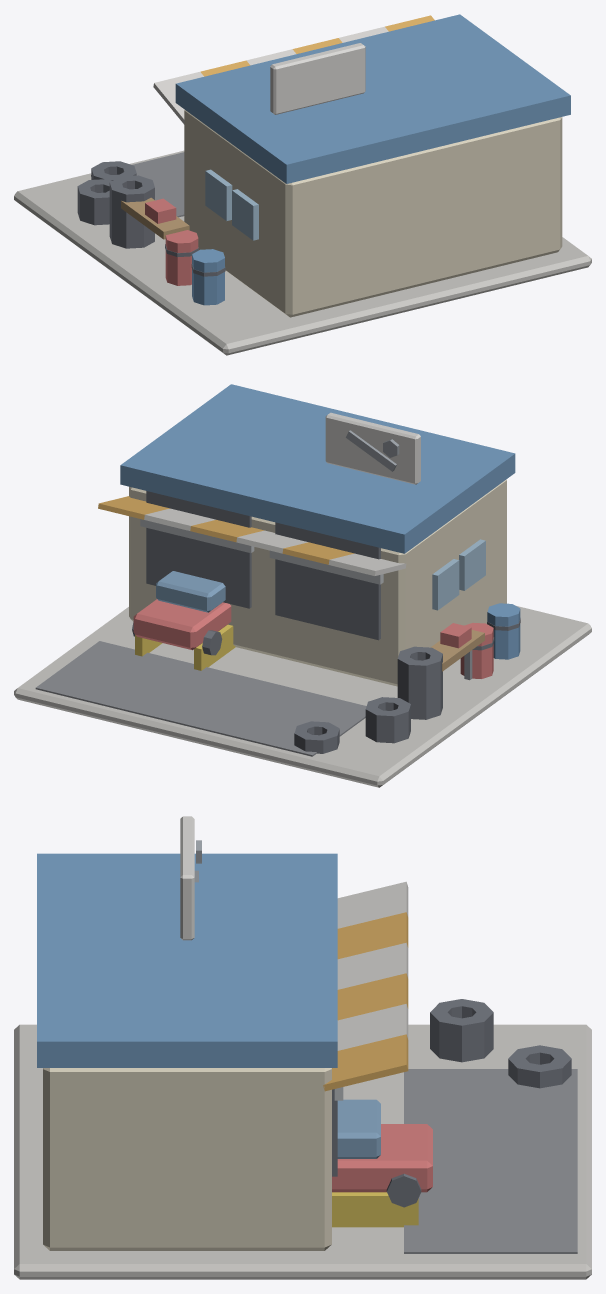
File: industrial__oficina.glb
3 renders of one model, top to bottom at view 1: azimuth 30°, elevation 25°; view 2: azimuth 150°, elevation 25°; view 3: azimuth 270°, elevation 25°, orthographic. The views are drawn at different scales.
Parts seen in each view (by area): view 1: industrial__oficina; view 2: industrial__oficina; view 3: industrial__oficina.
Part boxes in pixels (bbox=[...]): industrial__oficina: bbox=[14, 14, 591, 355]; industrial__oficina: bbox=[14, 384, 591, 787]; industrial__oficina: bbox=[14, 816, 591, 1279].
Bounding box in the file's own units: 2 × 1.13 × 2.
